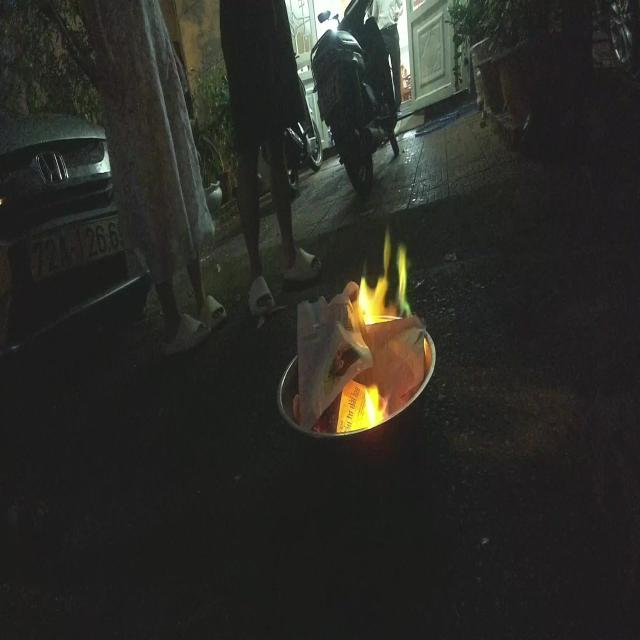Fire: (356, 230, 416, 330), (362, 380, 390, 428)
